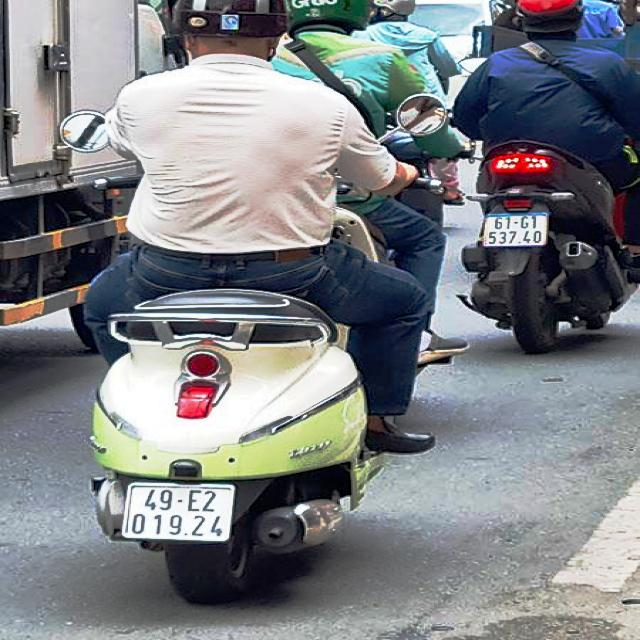license_plate: (123, 486, 234, 541), (485, 214, 547, 248)
